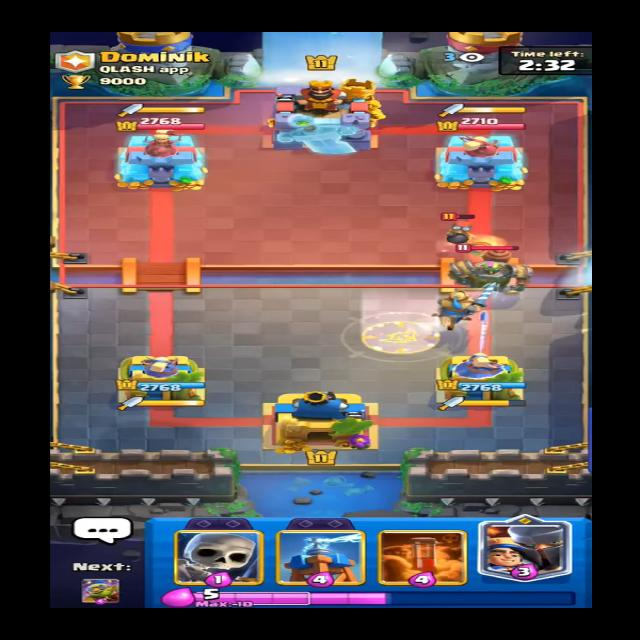Bomber: (433, 208, 483, 248)
Goblinmachine: (444, 242, 544, 292)
